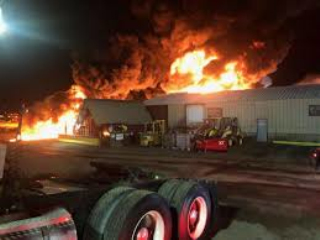fire: (8, 89, 84, 147), (169, 49, 260, 97)
smoke: (72, 13, 161, 102)
